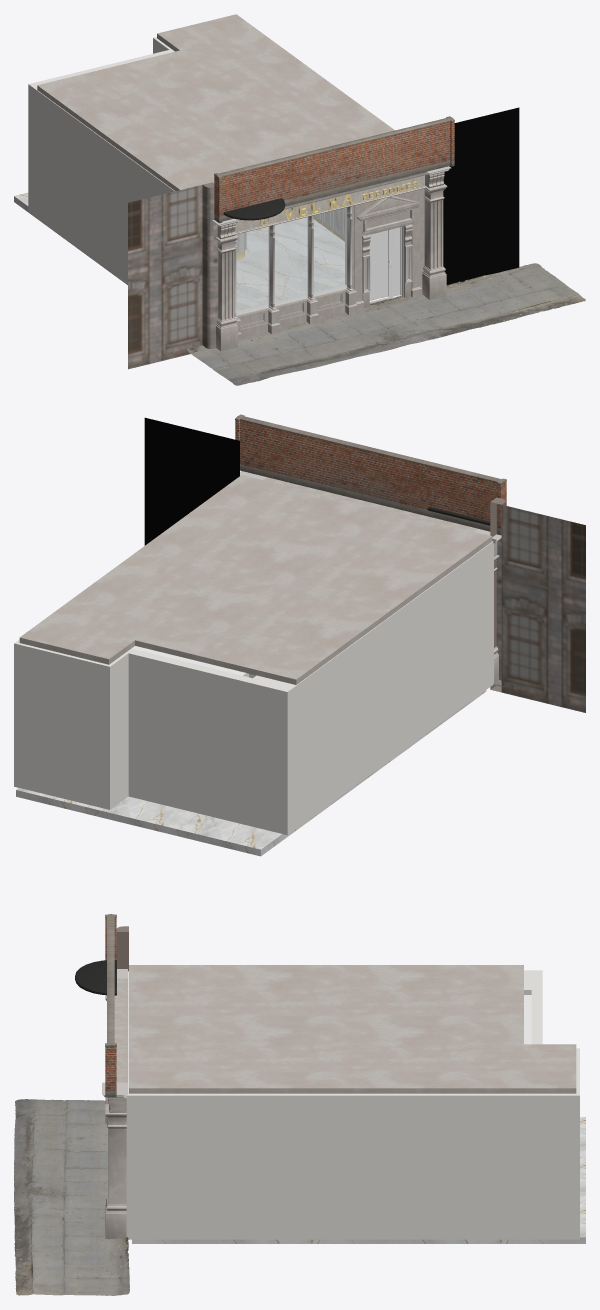
3 renders of one model, top to bottom at view 1: azimuth 30°, elevation 25°; view 2: azimuth 150°, elevation 25°; view 3: azimuth 270°, elevation 25°, orthographic. The views are drawn at different scales.
Visible parts, largest first — view 1: Ceiling, Walls, Plane.011, Plane.010, Plane.006, Wall-A, Floor, Plane.001, Plane.002, Plane, Cube.001, Plane.007 (+10 smaller); view 2: Walls, Ceiling, Plane.010, Wall-A, Plane.006, Floor, Wall-D, Plane.003; view 3: Walls, Ceiling, Plane.011, Floor, Plane.002, Plane.003, Wall-D, Cube.013, Wall-C, Plane.010.
Part boxes in pixels (x1,y1,x2,y2): Ceiling: (37, 14, 394, 191); Walls: (28, 37, 403, 315); Plane.011: (187, 263, 585, 385); Plane.010: (128, 182, 218, 369); Plane.006: (443, 107, 519, 284); Wall-A: (222, 121, 450, 221); Floor: (14, 192, 344, 310); Plane.001: (236, 289, 357, 342); Plane.002: (422, 184, 447, 299); Plane: (215, 235, 238, 351); Cube.001: (235, 175, 425, 234); Plane.007: (354, 189, 421, 311); Walls: (14, 541, 493, 835); Ceiling: (19, 475, 492, 684); Plane.010: (490, 497, 585, 712); Wall-A: (240, 420, 497, 531); Plane.006: (144, 417, 239, 545); Floor: (16, 690, 486, 856); Wall-D: (240, 416, 506, 484); Plane.003: (263, 477, 477, 531); Walls: (126, 970, 579, 1239); Ceiling: (129, 965, 576, 1093); Plane.011: (14, 1099, 129, 1295); Floor: (132, 1117, 585, 1243); Plane.002: (105, 1104, 127, 1239); Plane.003: (114, 978, 127, 1082); Wall-D: (105, 914, 116, 1043); Cube.013: (75, 960, 116, 995); Wall-C: (105, 1046, 116, 1097); Plane.010: (116, 926, 128, 971).
Size of the model in its own units: 9.69 by 4.1 by 10.3.
Materials: 74 (26 with a texture image).
